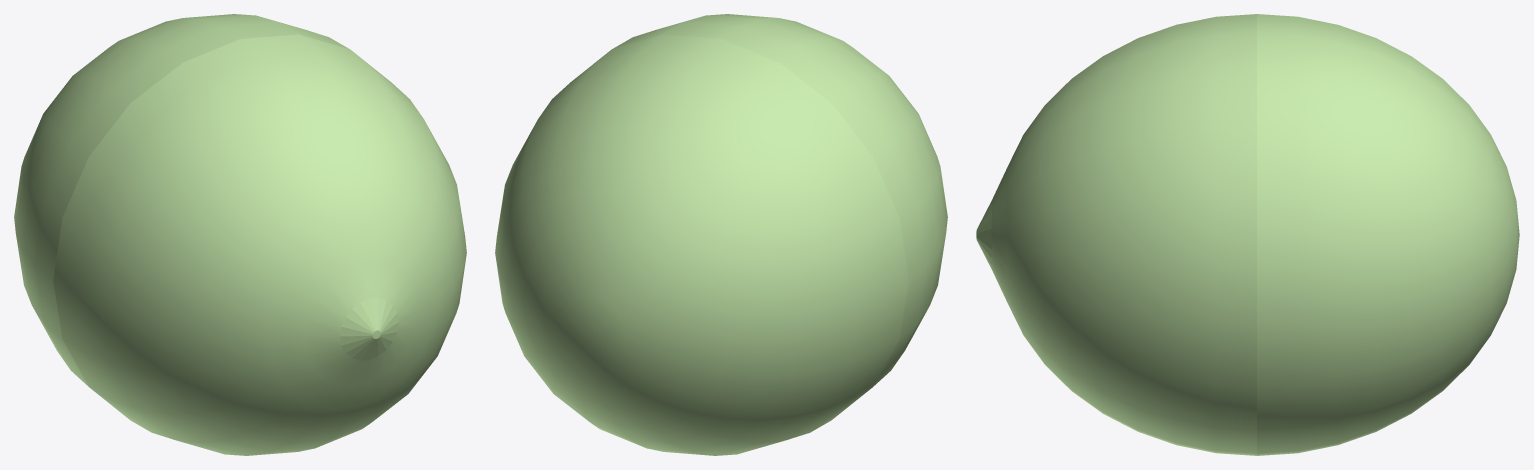
Rendered from coconutEmptycore.fbx.
3 views of the same model, side by side, from view 1: azimuth 30°, elevation 25°; view 2: azimuth 150°, elevation 25°; view 3: azimuth 270°, elevation 25° (orthographic). The views are drawn at different scales.
Visible parts, largest first — view 1: polySurface5; view 2: polySurface5; view 3: polySurface5.
Boxes of the visible parts, x1,y1,x2,y2 form: polySurface5: (14, 14, 466, 455); polySurface5: (495, 14, 947, 455); polySurface5: (976, 14, 1519, 455).
Size of the model in its own units: 2.68 by 2.68 by 3.26.
